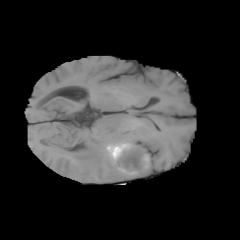glioma: (72, 129, 152, 176)
